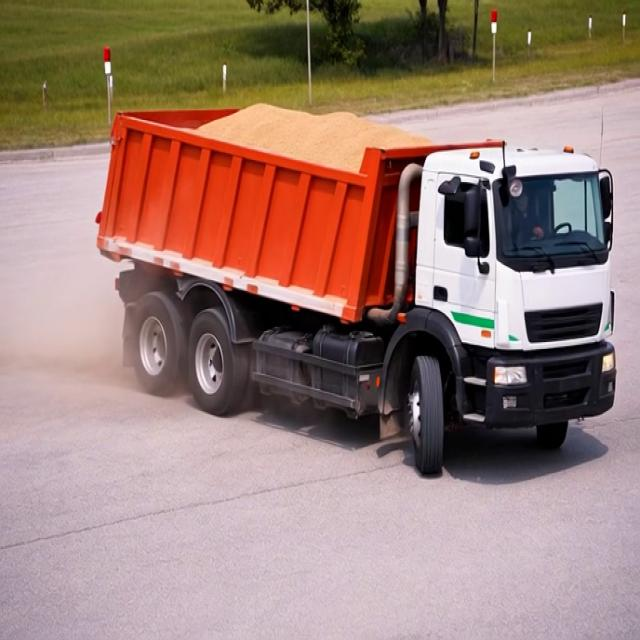trailer: (112, 104, 508, 172)
truck: (95, 88, 619, 484)
